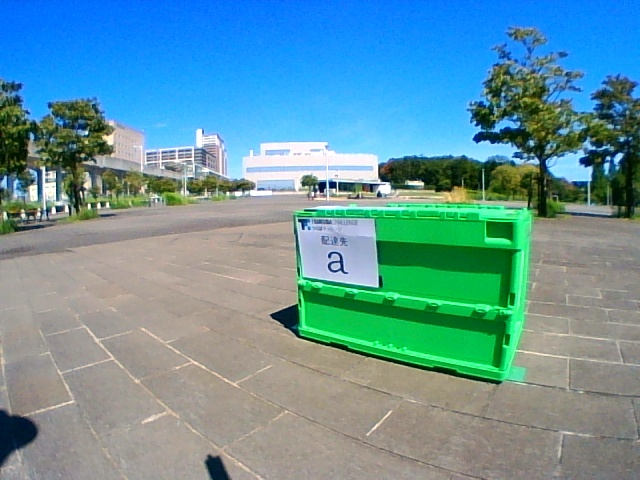green_box: (293, 204, 531, 383)
tag_a: (306, 223, 372, 278)
